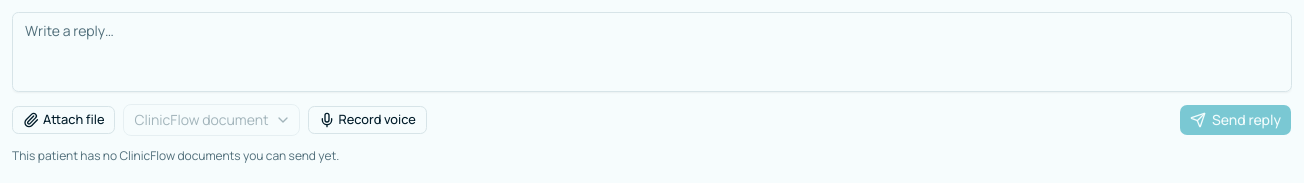
P8B Inbox composer › enumerates multiple microphones after permission and shows only their labels
The image size is (1304, 183).
What coordinates should you click on to do the following:
click the button "Record voice"
I would click on:
 (367, 120)
Its box is [308,106,427,134].
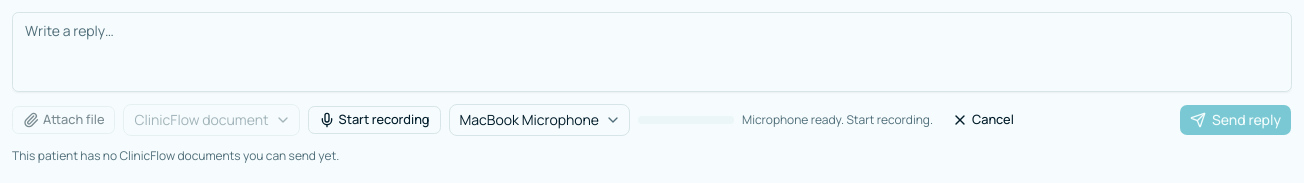
Expected: the dropdown named "Microphone input" is shown
What coordinates should you click on to do the following:
click the dropdown named "Microphone input"
I would click on:
 (539, 120)
Its box is [448,104,630,136].
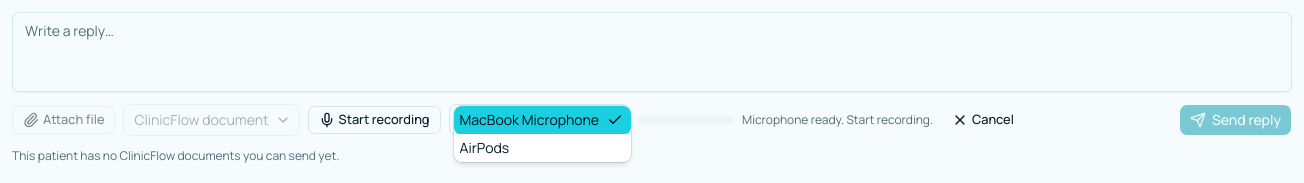
Expected: the option "MacBook Microphone" is shown, [454,106,631,134]
Expected: the option "AirPods" is shown, [460,138,509,157]
